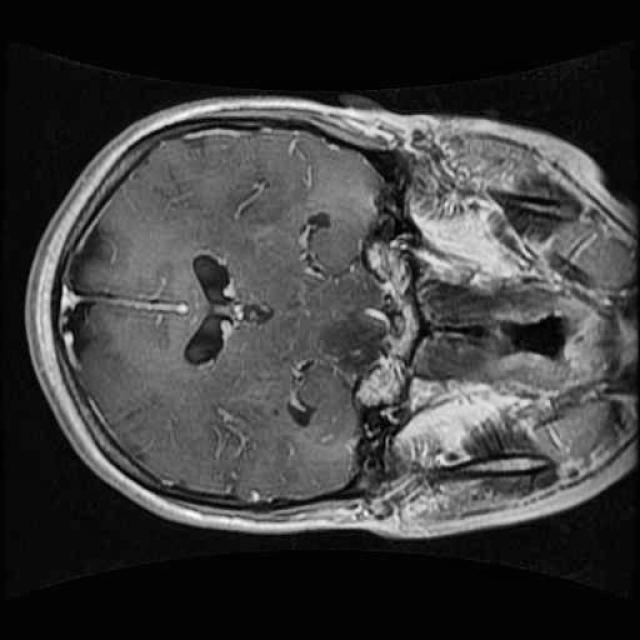Non-Tumor: (309, 298, 408, 398)
